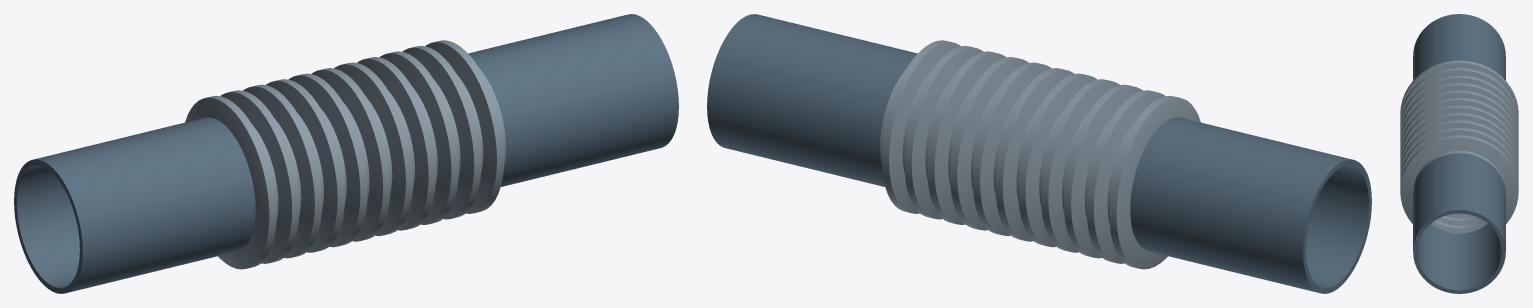
The model's file is silf-dn65-L380-D76.glb.
The picture shows the model from 3 angles, left to right: view 1: azimuth 30°, elevation 25°; view 2: azimuth 150°, elevation 25°; view 3: azimuth 270°, elevation 25°; orthographic projection. The views are drawn at different scales.
Visible parts, largest first — view 1: prokladka_silfon_1, patrubok_1, patrubok_2; view 2: prokladka_silfon_1, patrubok_1, patrubok_2; view 3: prokladka_silfon_1, patrubok_2, patrubok_1.
Part boxes in pixels (box(x1,y1,x2,y2)): prokladka_silfon_1: box(185, 40, 505, 269); patrubok_1: box(14, 117, 255, 293); patrubok_2: box(468, 14, 678, 186); prokladka_silfon_1: box(880, 40, 1200, 269); patrubok_1: box(1130, 117, 1371, 293); patrubok_2: box(707, 14, 917, 186); prokladka_silfon_1: box(1400, 60, 1518, 233); patrubok_2: box(1413, 153, 1505, 293); patrubok_1: box(1413, 14, 1505, 80).
Bounding box in the file's own units: 380 × 97.12 × 97.12.
